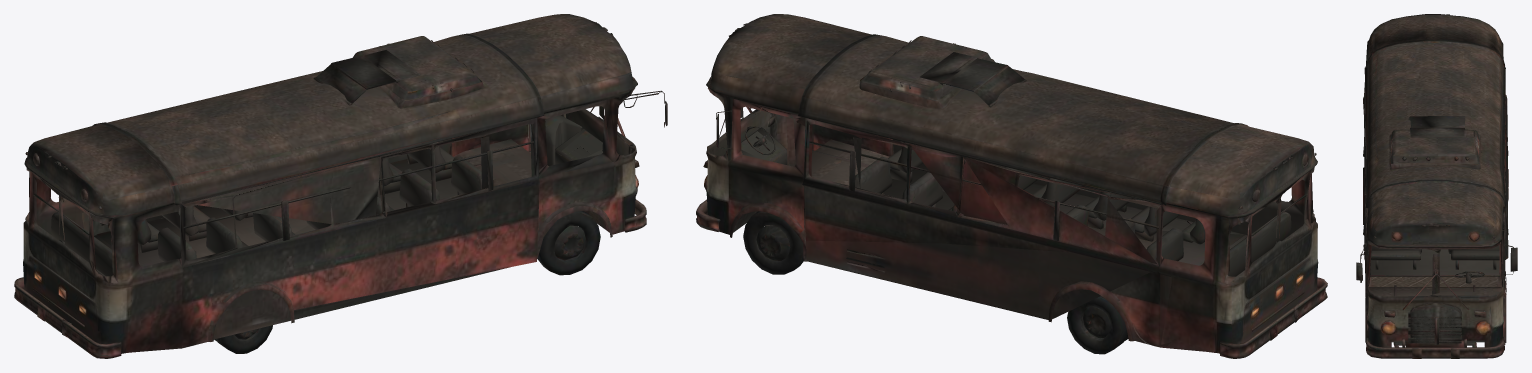
File: office-bus-wreck.glb
The picture shows the model from 3 angles, left to right: view 1: azimuth 30°, elevation 25°; view 2: azimuth 150°, elevation 25°; view 3: azimuth 270°, elevation 25°; orthographic projection. The views are drawn at different scales.
Parts seen in each view (by area): view 1: bus-wreck; view 2: bus-wreck; view 3: bus-wreck.
Boxes of the visible parts, left/top/right/bottom form: bus-wreck: left=14, top=14, right=667, bottom=358; bus-wreck: left=696, top=14, right=1327, bottom=358; bus-wreck: left=1356, top=14, right=1517, bottom=358.
Bounding box in the file's own units: 12 × 4.34 × 3.76.
Materials: 1 (1 with a texture image).
